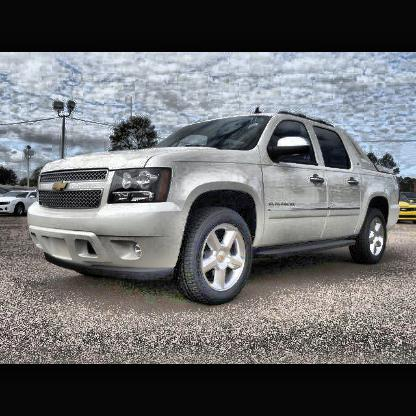Chevrolet Avalanche Crew Cab 2012: (23, 109, 400, 310)
